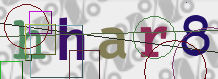8: (181, 14, 211, 56)
a: (97, 25, 126, 60)
h: (12, 19, 47, 61), (57, 16, 85, 61)
r: (139, 25, 167, 58)
